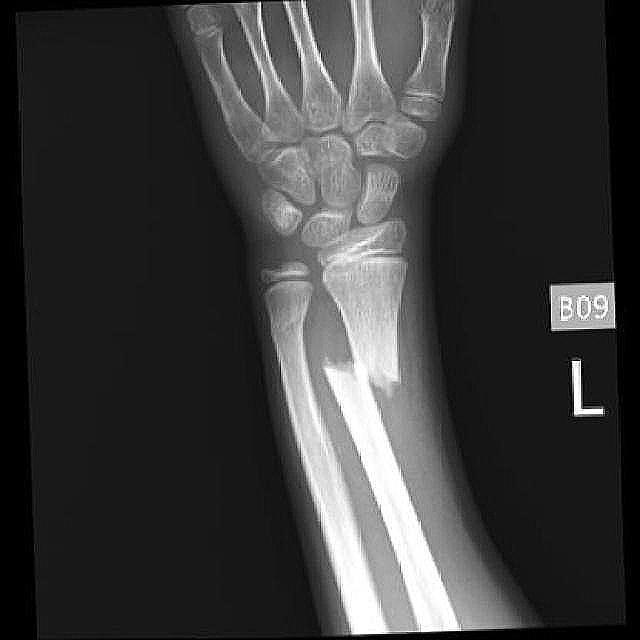bone: (320, 358, 406, 400)
